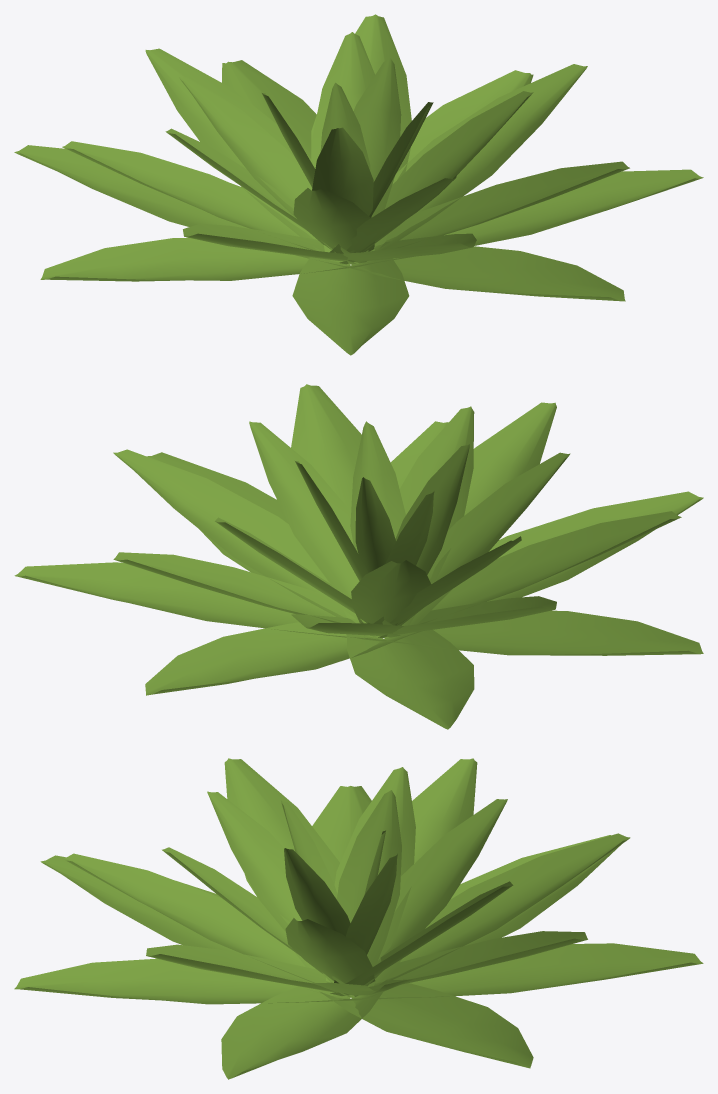
Rendered from AgaveCactus.fbx.
The picture shows the model from 3 angles, top to bottom: view 1: azimuth 30°, elevation 25°; view 2: azimuth 150°, elevation 25°; view 3: azimuth 270°, elevation 25°; orthographic projection. The views are drawn at different scales.
Parts seen in each view (by area): view 1: Agave; view 2: Agave; view 3: Agave.
Boxes of the visible parts, bbox=[...] form: Agave: bbox=[14, 14, 703, 355]; Agave: bbox=[14, 384, 703, 729]; Agave: bbox=[14, 758, 703, 1079].
Bounding box in the file's own units: 34.93 × 9.68 × 34.66.
